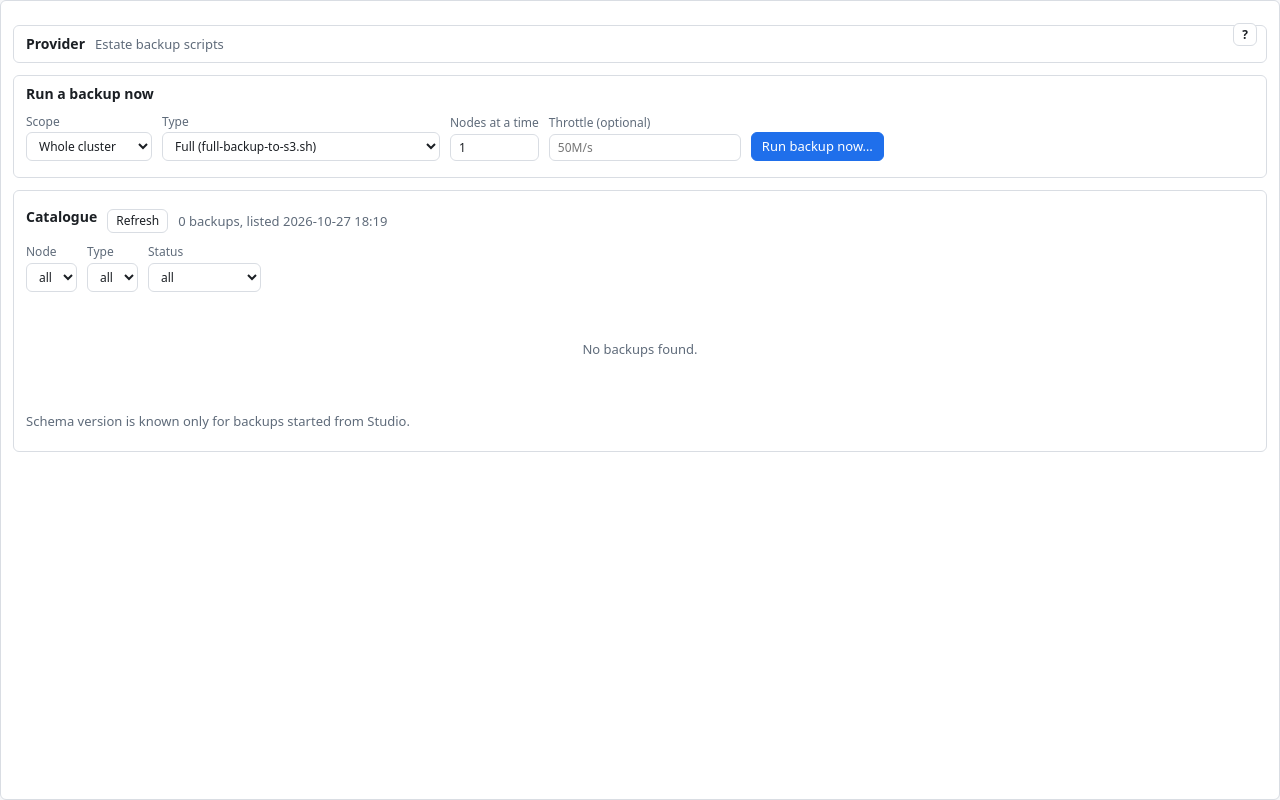
Test case: BackupPanel › asks for confirmation with the exact command, then follows the job per node
Click the button "Run backup now…".
click(817, 146)  # box [751,132,884,161]
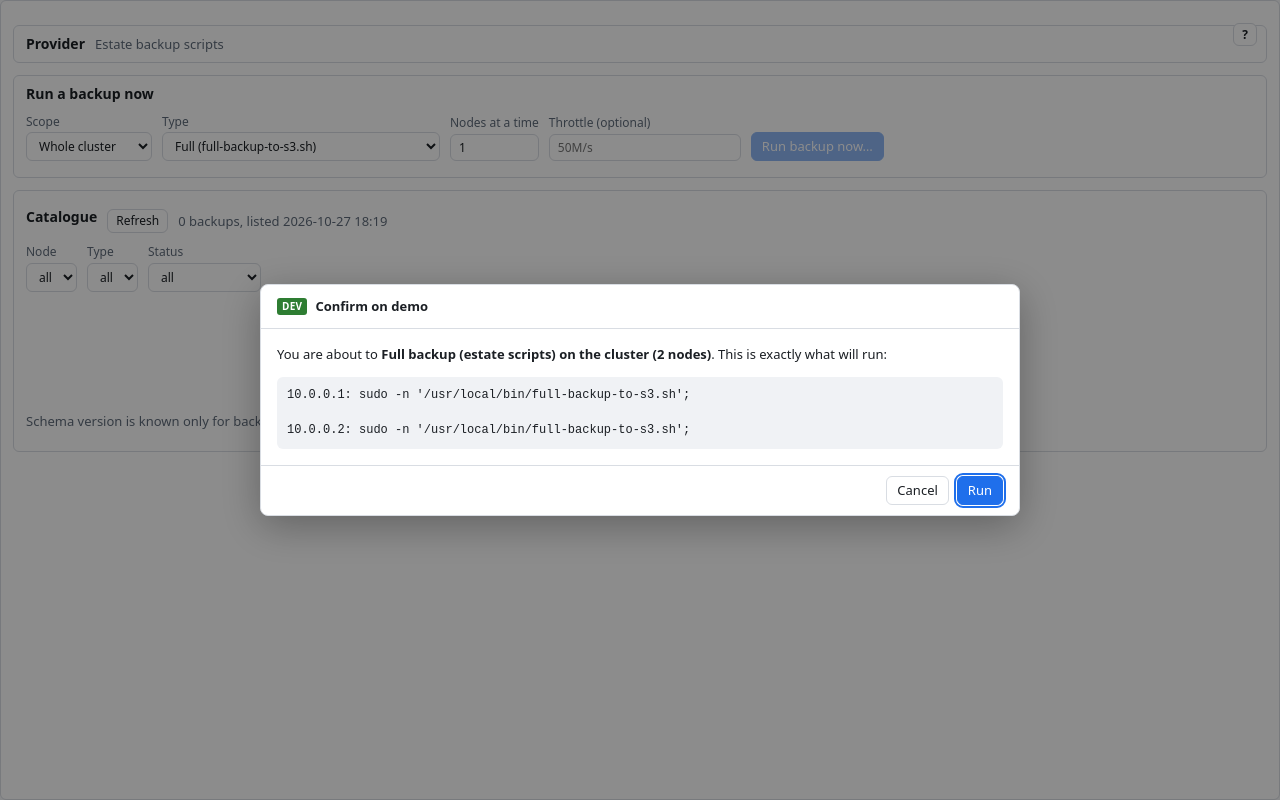
expect the text "10.0.0.1: sudo -n '/usr/local/bin/full-backup-to-s3.sh'" is shown: met, box [287,388,690,437]
Click the button "Run".
click(980, 490)  # box [957,476,1003,505]
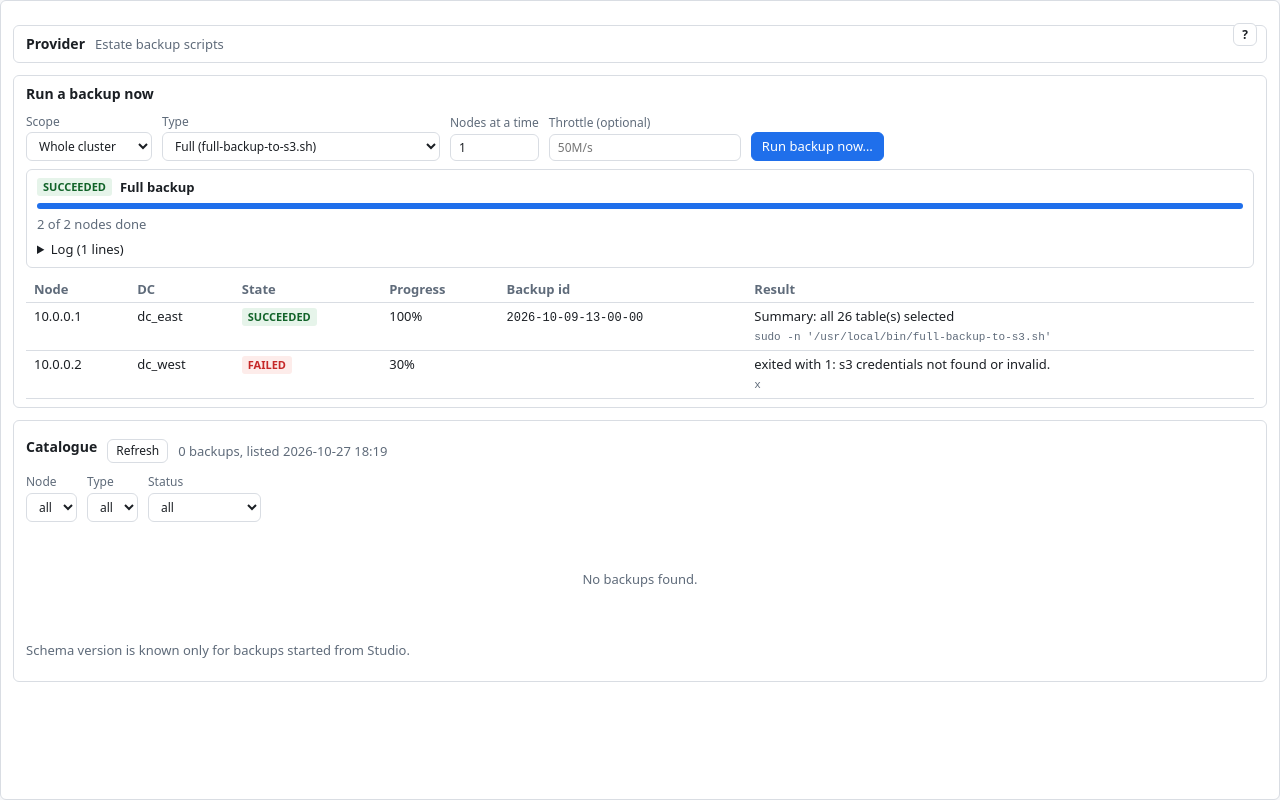
expect the text "2026-10-09-13-00-00" is shown: met, box [506,311,643,325]
expect the text "exited with 1: s3 credentials not found or invalid." is shown: met, box [754,355,1050,373]
